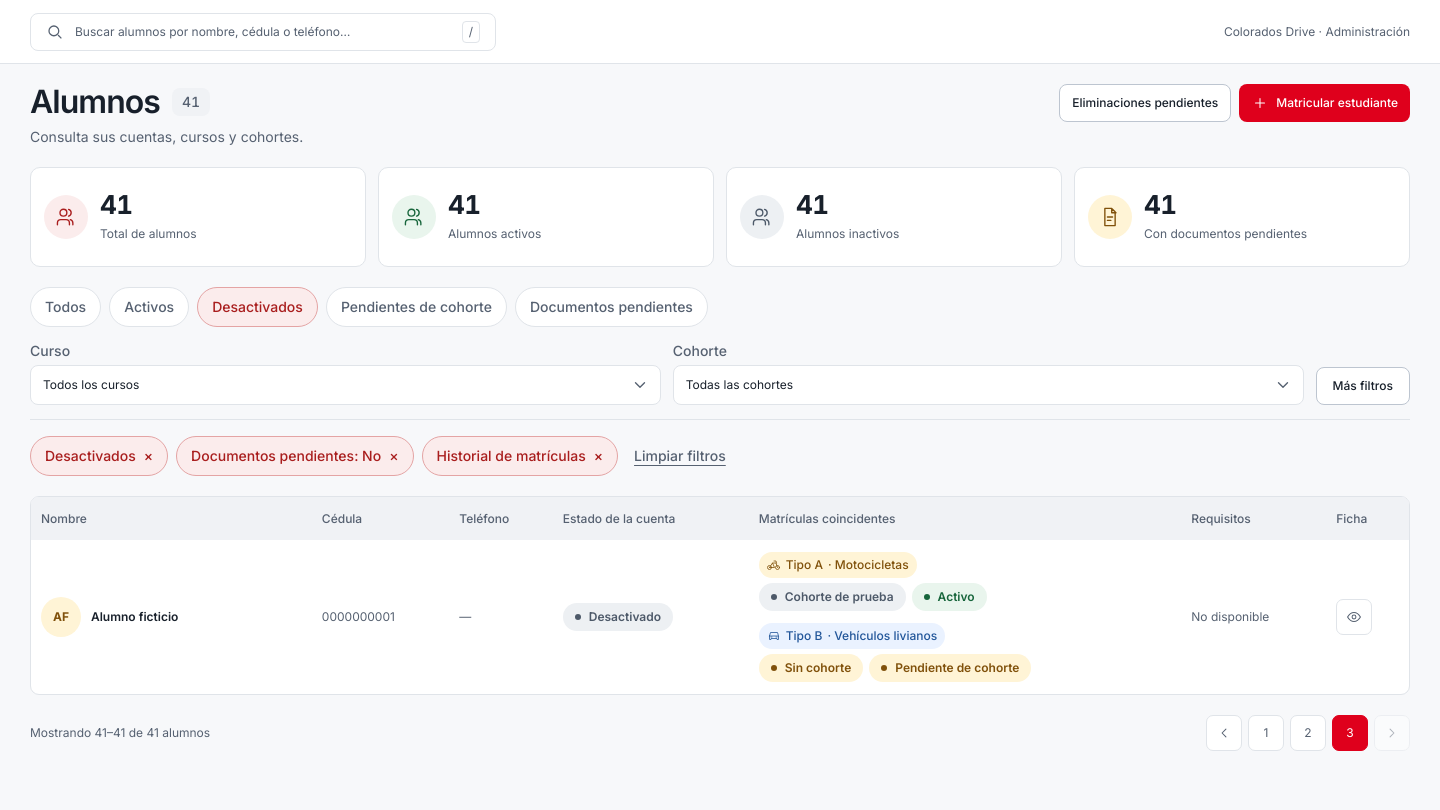
Búsqueda mejorada › limpia búsqueda y todos los filtros, incluso valores false
Type "José" into the search field named "Buscar por nombre, cédula o teléfono".
click(263, 32); type("José")  # box [30, 12, 496, 50]
Wait 350 ms
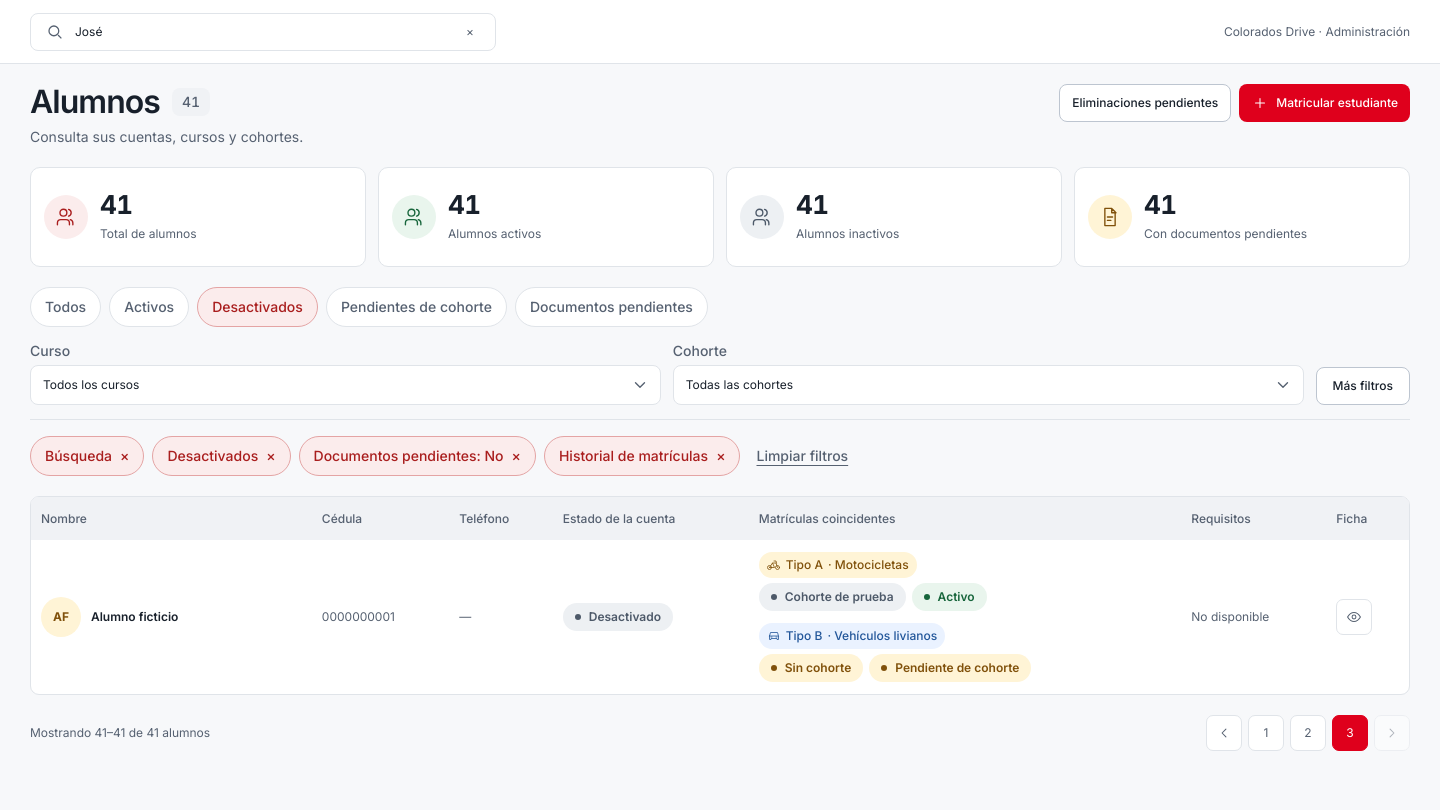
Click the button "Limpiar filtros".
click(802, 456)  # box [752, 436, 852, 476]
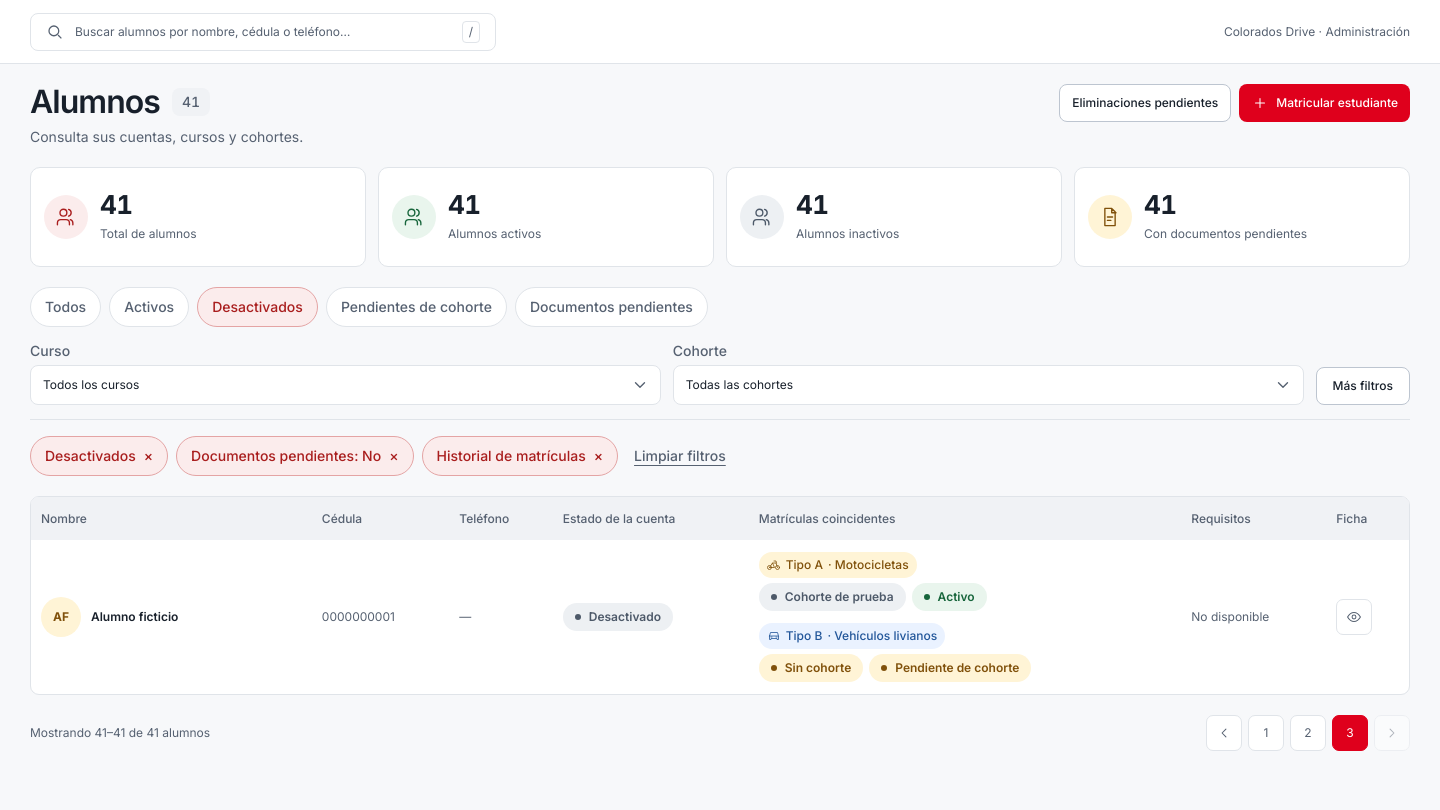
Now the search field named "Buscar por nombre, cédula o teléfono" is empty, box [30, 12, 496, 50]
